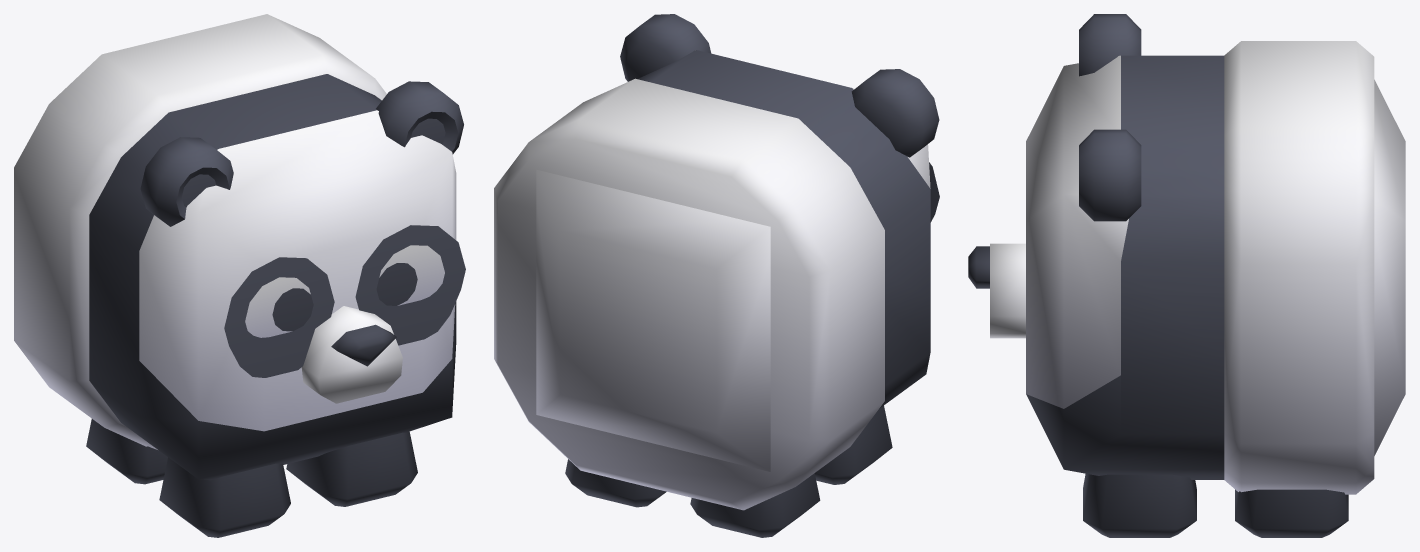
The model's file is animal-panda.obj.
3 renders of one model, left to right at view 1: azimuth 30°, elevation 25°; view 2: azimuth 150°, elevation 25°; view 3: azimuth 270°, elevation 25°, orthographic. The views are drawn at different scales.
Parts seen in each view (by area): view 1: body, leg-front-right, leg-front-left, leg-back-right; view 2: body, leg-back-right, leg-front-right, leg-back-left; view 3: body, leg-front-left, leg-back-left.
Part boxes in pixels (bbox=[...]): body: bbox=[14, 14, 465, 480]; leg-front-right: bbox=[159, 457, 290, 537]; leg-front-left: bbox=[286, 431, 417, 506]; leg-back-right: bbox=[86, 419, 167, 484]; body: bbox=[494, 14, 939, 510]; leg-back-right: bbox=[690, 473, 820, 537]; leg-front-right: bbox=[814, 405, 892, 484]; leg-back-left: bbox=[565, 459, 666, 507]; body: bbox=[968, 14, 1405, 494]; leg-front-left: bbox=[1083, 473, 1196, 537]; leg-back-left: bbox=[1235, 489, 1348, 537].
Bounding box in the file's own units: 1.34 × 1.5 × 1.44.
